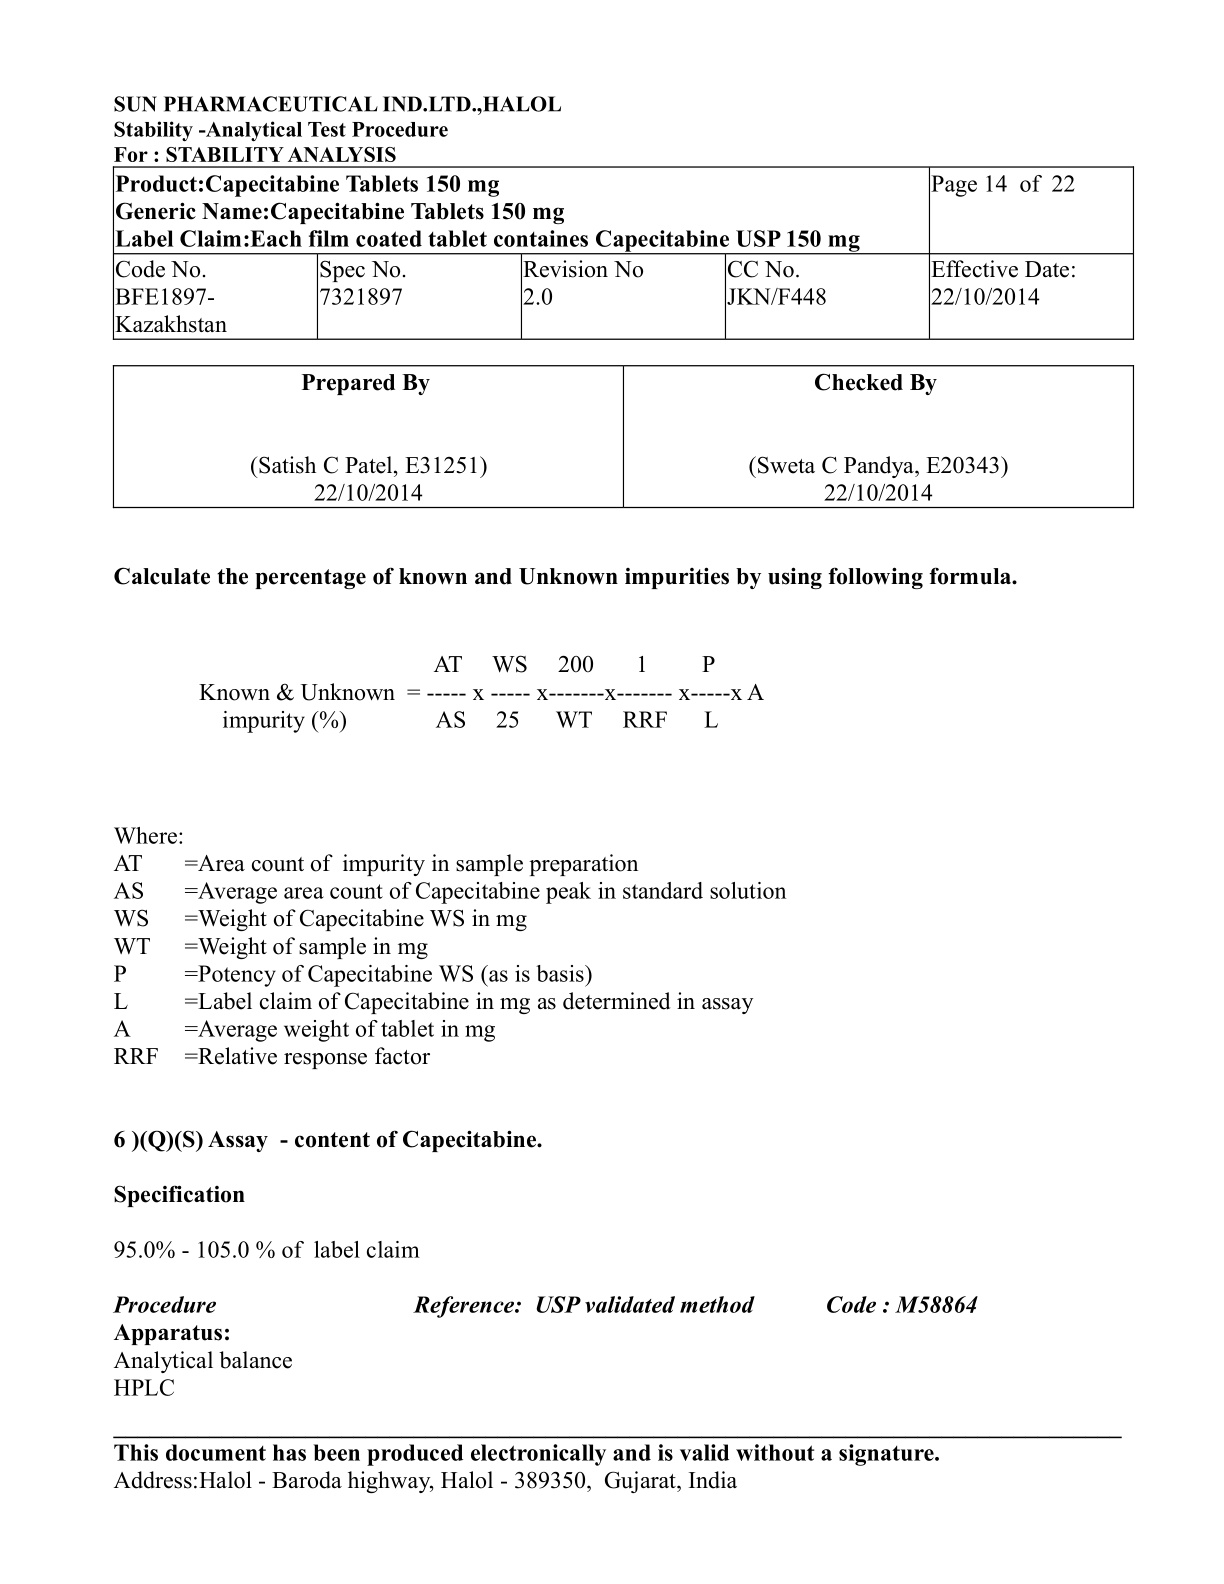full_lined: (112, 363, 1135, 510)
merged_cells: (111, 165, 1134, 339)
nolines: (112, 852, 791, 1068)
